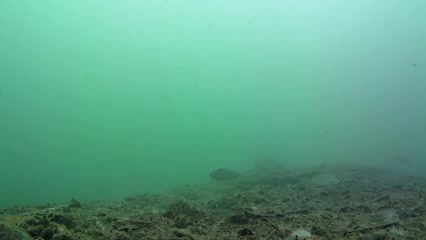azi: (298, 171, 342, 187)
